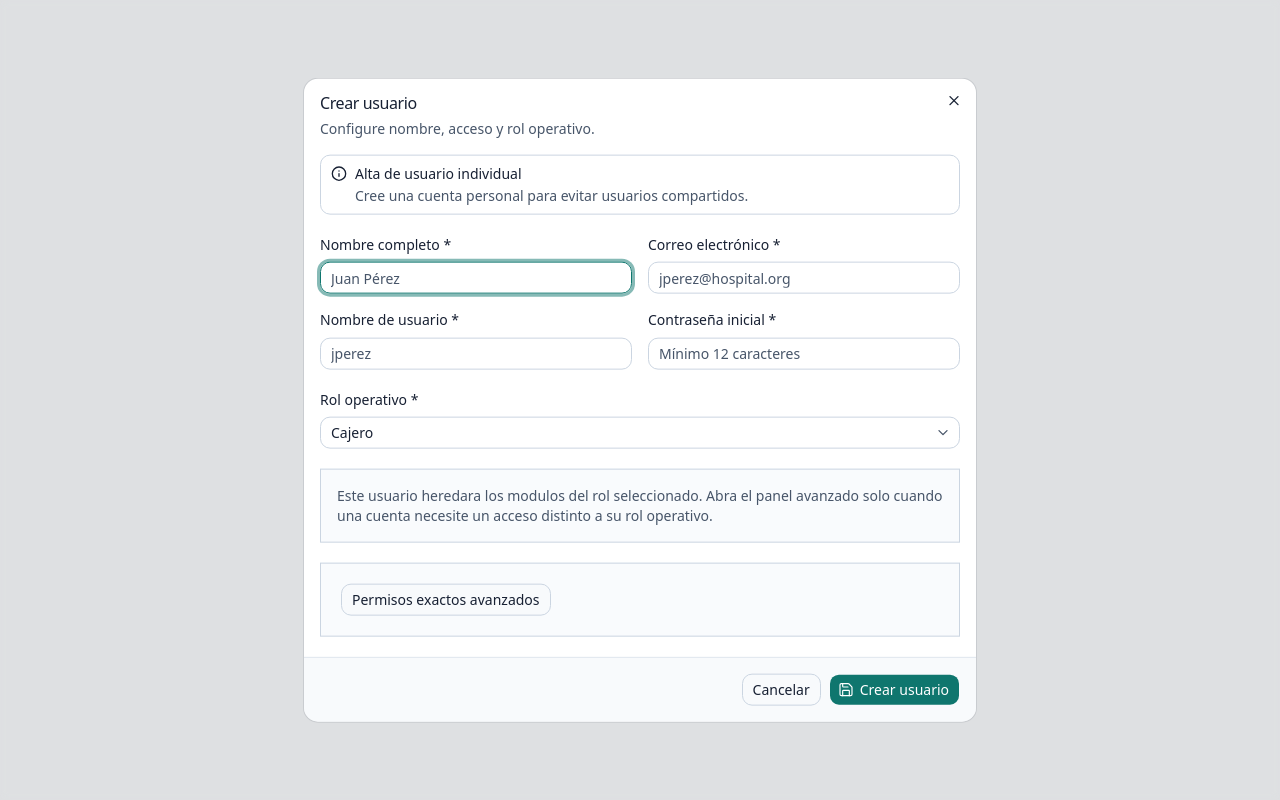
Test: UserFormDialog › hides custom roles with critical permissions from user creators without admin assignment permission
Click the dropdown named "rol operativo" at (352, 432), box 320,416 -> 960,448
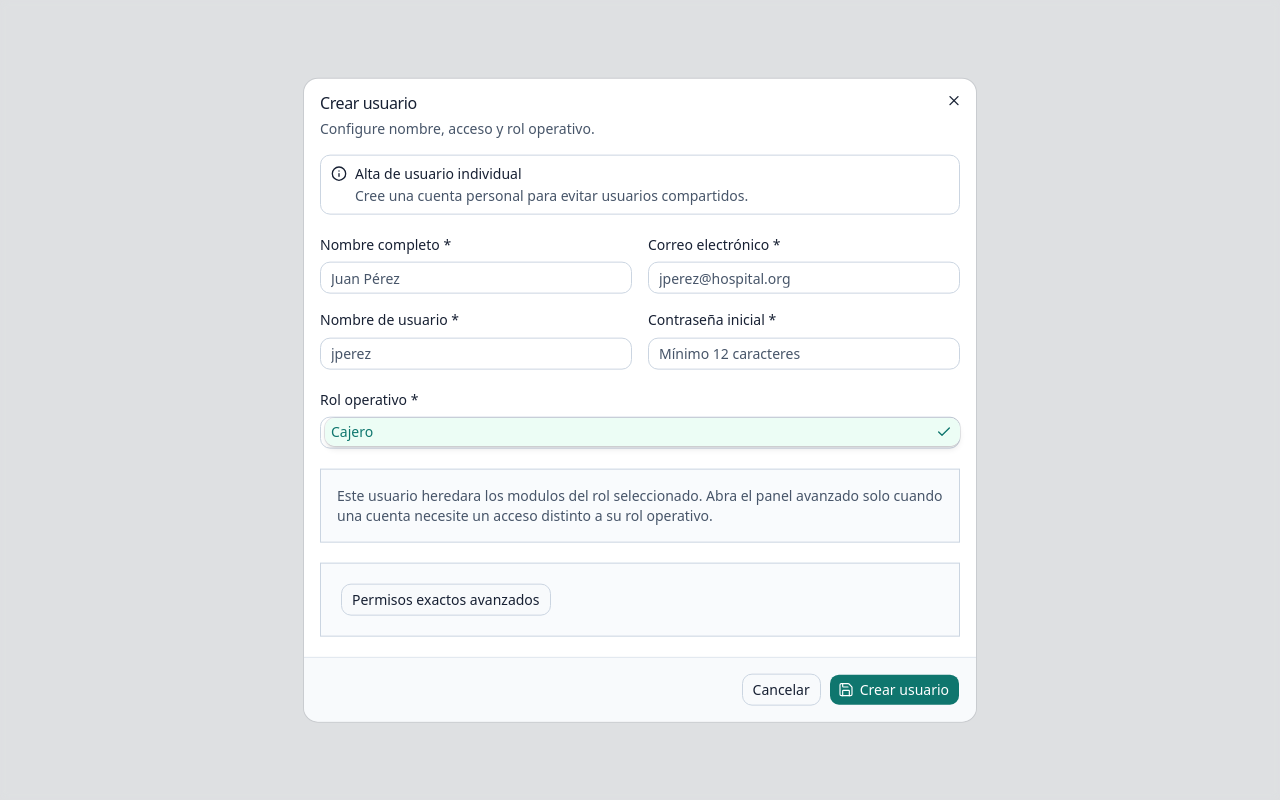
Now the option "Cajero" is shown, box 325,418 -> 960,446
